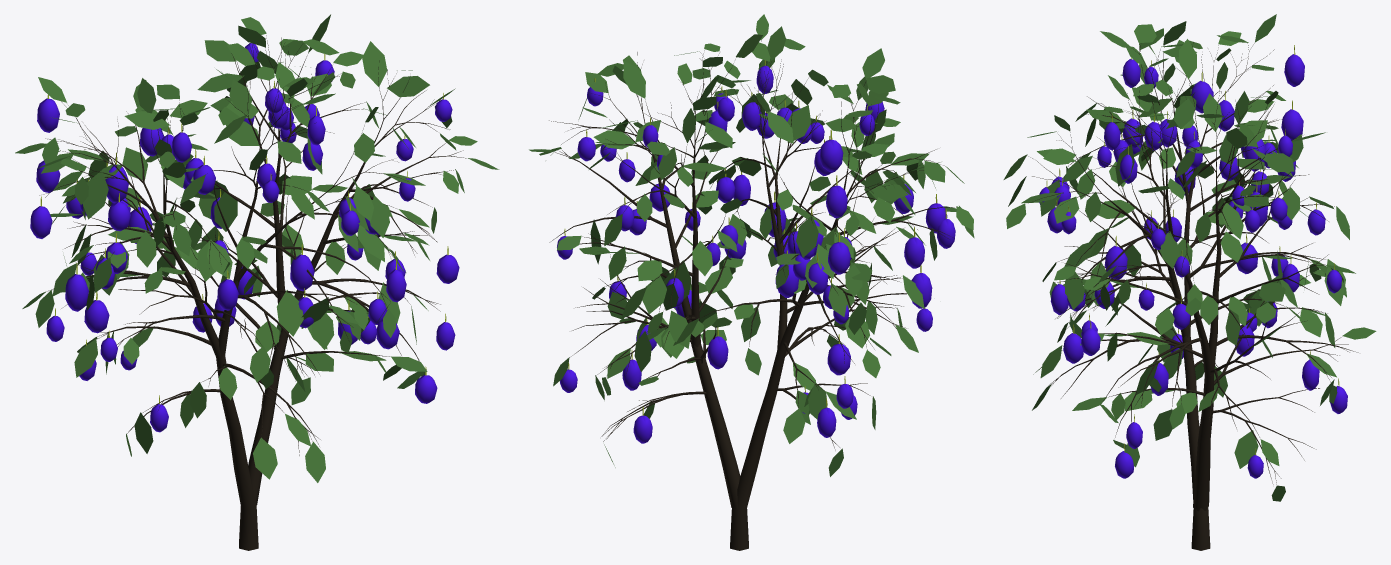
The model's file is plumTree.glb.
The picture shows the model from 3 angles, left to right: view 1: azimuth 30°, elevation 25°; view 2: azimuth 150°, elevation 25°; view 3: azimuth 270°, elevation 25°; orthographic projection. The views are drawn at different scales.
Parts seen in each view (by area): view 1: leaves, plums.001, tree; view 2: leaves, plums.001, tree; view 3: leaves, tree, plums.001.
Part boxes in pixels (left/top/right/bottom): leaves: left=15, top=14, right=499, bottom=482; plums.001: left=30, top=43, right=459, bottom=432; tree: left=39, top=35, right=466, bottom=550; leaves: left=529, top=14, right=974, bottom=476; plums.001: left=557, top=60, right=955, bottom=443; tree: left=549, top=40, right=956, bottom=550; leaves: left=1003, top=14, right=1376, bottom=501; tree: left=1027, top=42, right=1358, bottom=550; plums.001: left=1039, top=45, right=1347, bottom=478.
Bounding box in the file's own units: 14.58 × 16.69 × 11.3.
